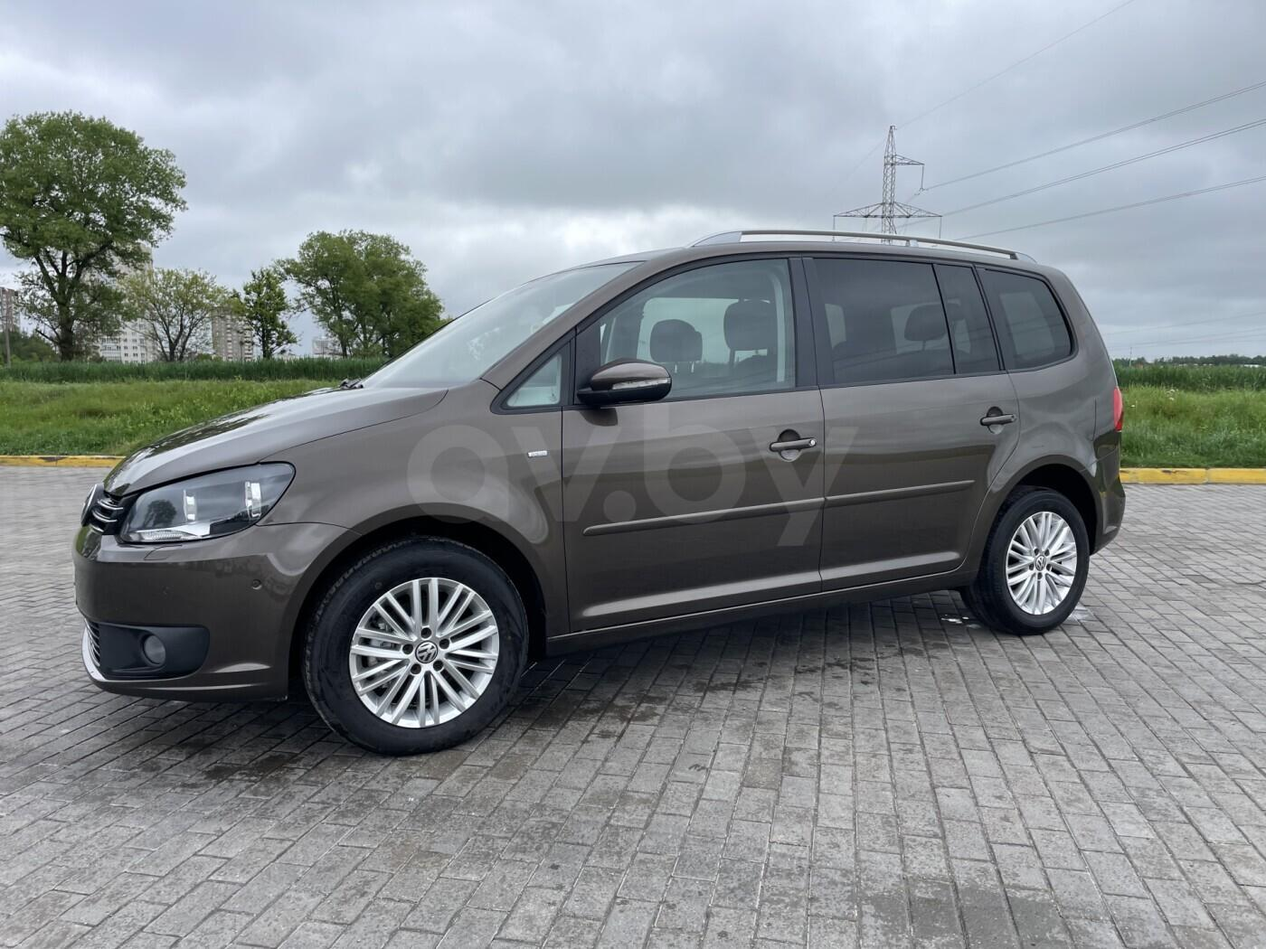Touran_2010-2015: (72, 223, 1130, 744)
